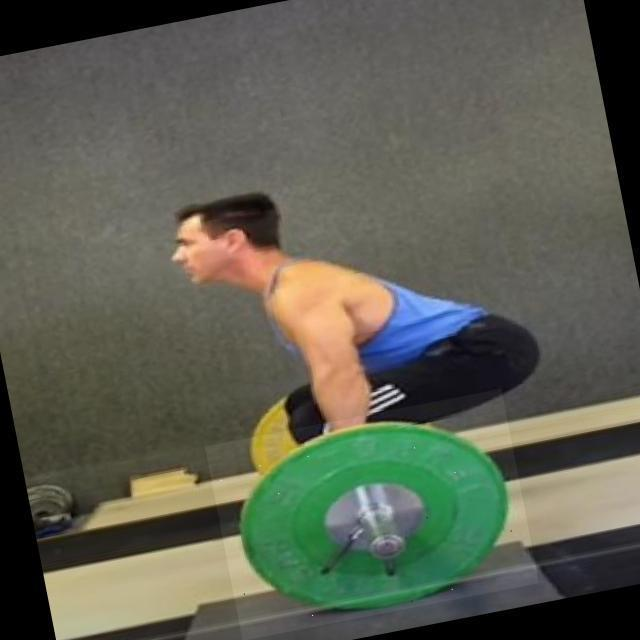barbell: (206, 389, 540, 640)
